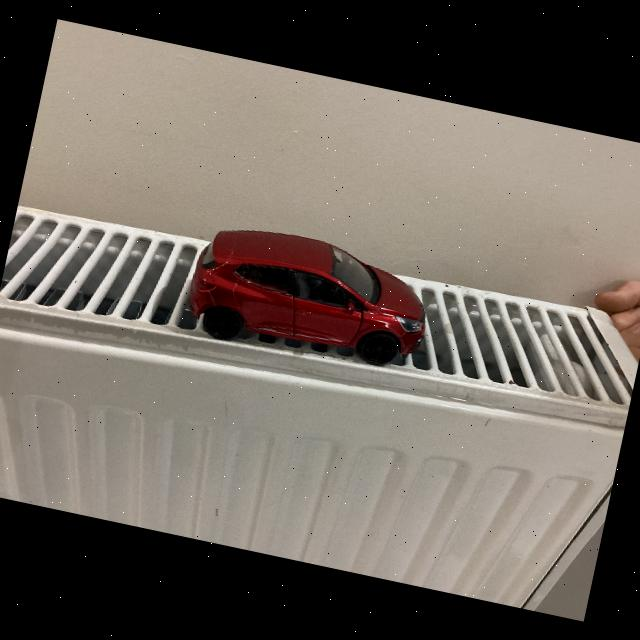Dogru_Jant: (362, 332, 398, 366), (209, 312, 239, 338)
